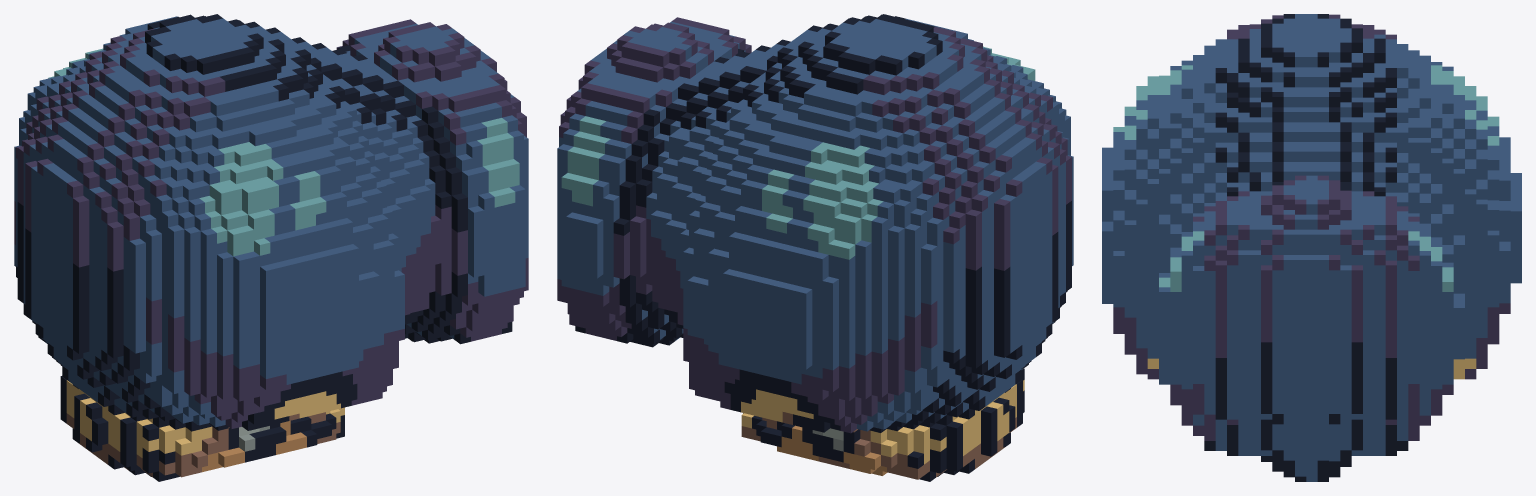
File: corpo.glb
3 renders of one model, left to right at view 1: azimuth 30°, elevation 25°; view 2: azimuth 150°, elevation 25°; view 3: azimuth 270°, elevation 25°, orthographic. The views are drawn at different scales.
Visible parts, largest first — view 1: q0; view 2: q0; view 3: q0.
Boxes of the visible parts, bbox=[...] form: q0: bbox=[14, 14, 528, 481]; q0: bbox=[557, 14, 1073, 481]; q0: bbox=[1102, 14, 1521, 481].
Size of the model in its own units: 42 by 37 by 37.
Materials: 1 (1 with a texture image).
